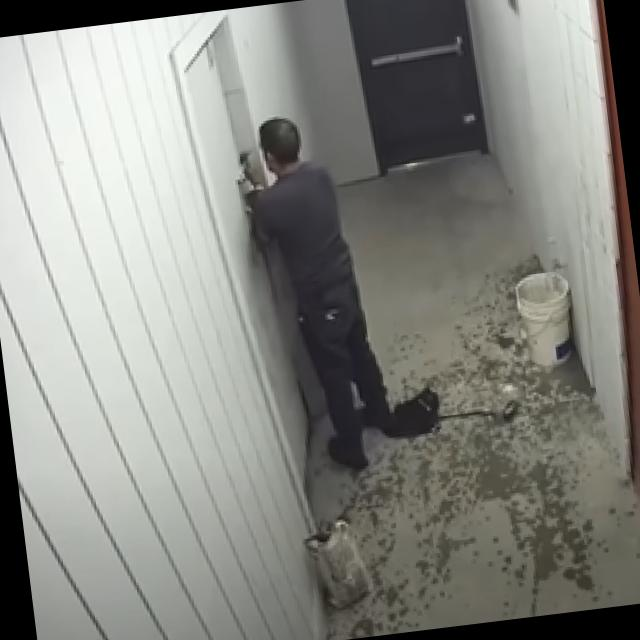person: (230, 104, 396, 487)
